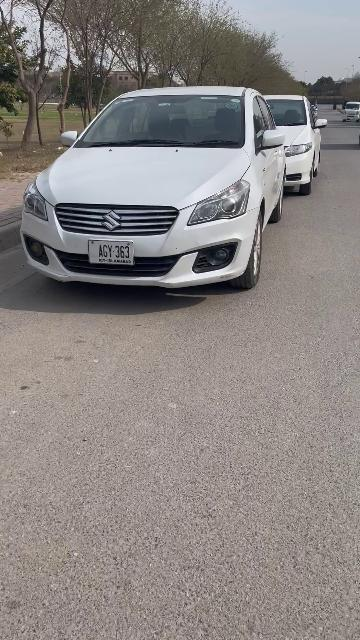plate: (88, 240, 134, 264)
